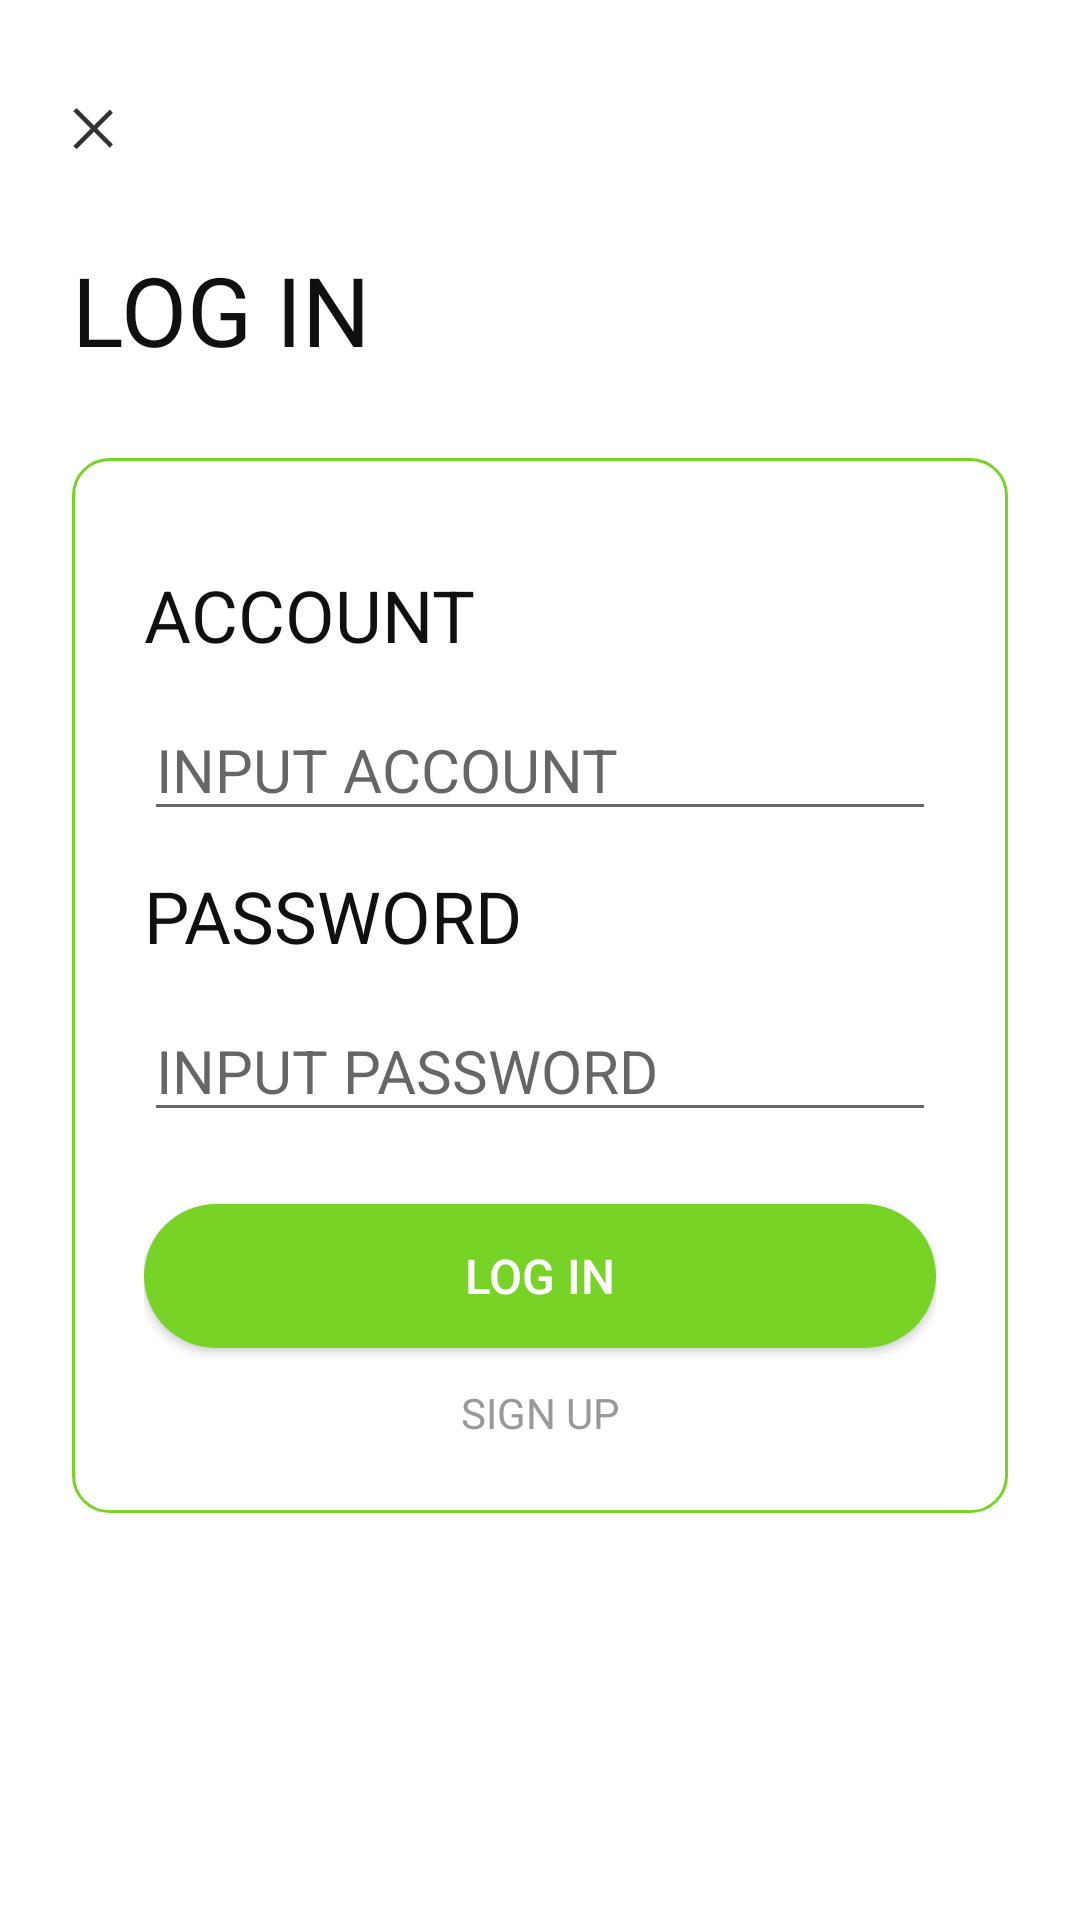

Where to tap for icons on this 1080px×1920px app screen, as point (x, y):
link sharp close: point (93, 128)
